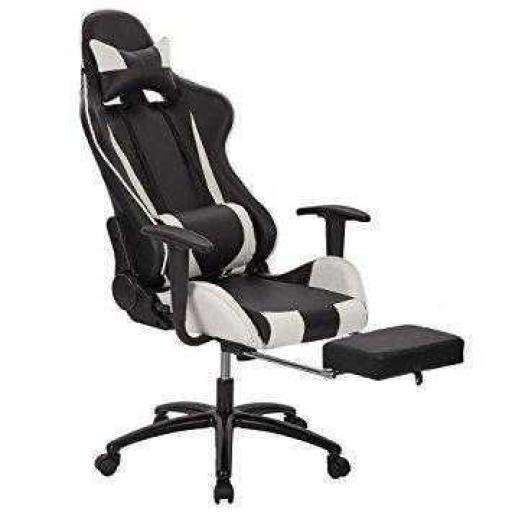chair: (70, 4, 471, 511)
